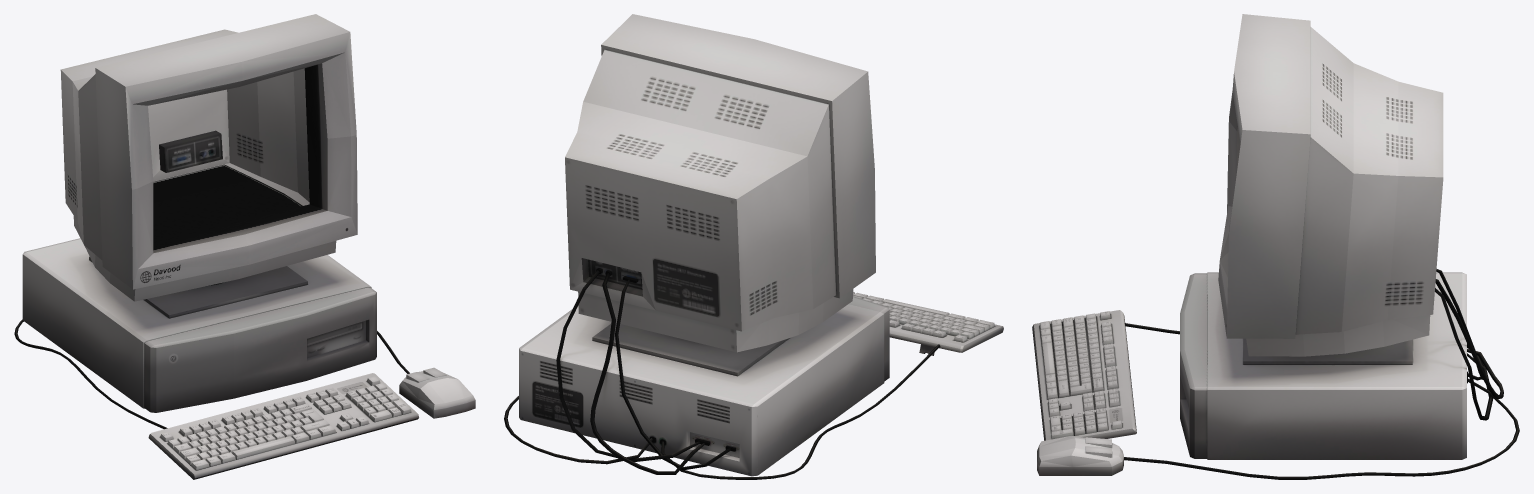
The model's file is computer_setup.glb.
3 views of the same model, side by side, from view 1: azimuth 30°, elevation 25°; view 2: azimuth 150°, elevation 25°; view 3: azimuth 270°, elevation 25° (orthographic). The views are drawn at different scales.
Parts seen in each view (by area): view 1: monitor_base, computer, keyboard, mouse, cables; view 2: monitor_base, computer, cables, keyboard; view 3: monitor_base, computer, keyboard, cables, mouse.
Boxes of the visible parts, <box> form: monitor_base: <box>60,14,357,318</box>; computer: <box>22,238,376,412</box>; keyboard: <box>148,373,418,479</box>; mouse: <box>399,367,475,418</box>; cables: <box>14,149,409,429</box>; monitor_base: <box>565,14,875,376</box>; computer: <box>519,296,889,476</box>; cables: <box>504,268,940,479</box>; keyboard: <box>853,292,1003,355</box>; monitor_base: <box>1218,14,1443,364</box>; computer: <box>1180,272,1466,459</box>; keyboard: <box>1032,310,1136,440</box>; cables: <box>1124,269,1519,479</box>; mouse: <box>1037,436,1123,475</box>.
Size of the model in its own units: 2.24 by 2.29 by 3.04.
Materials: 5 (5 with a texture image).
